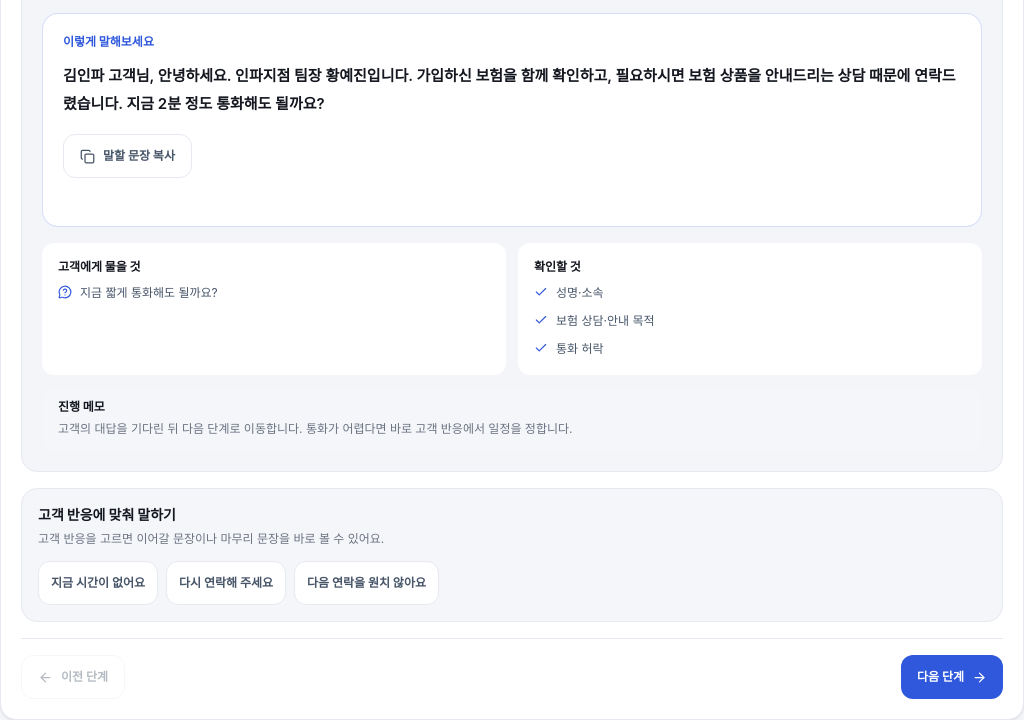
Test: GuidedTalkPlaybooks › selects a scene and keeps exactly one current step
(page scrolled)
Click the button "다음 단계".
click(952, 677)  # box [901, 655, 1003, 699]
(page scrolled)
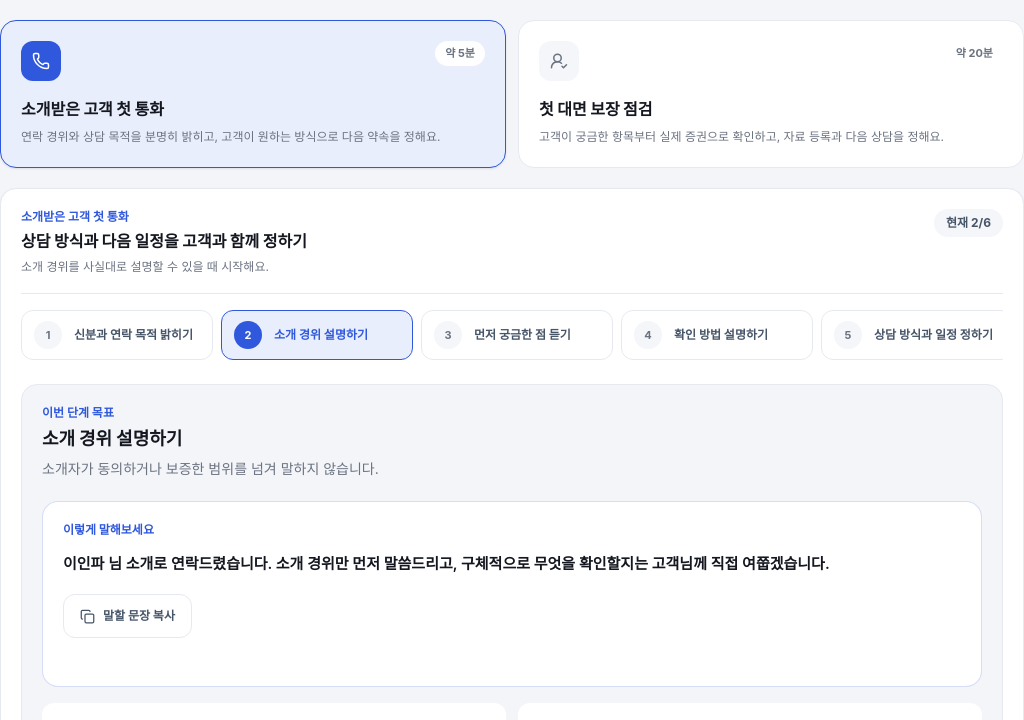
Expected: the text "현재 2/6" is shown, [934, 209, 1003, 237]
Click the button "첫 대면 보장 점검".
click(559, 61)  # box [518, 20, 1023, 168]
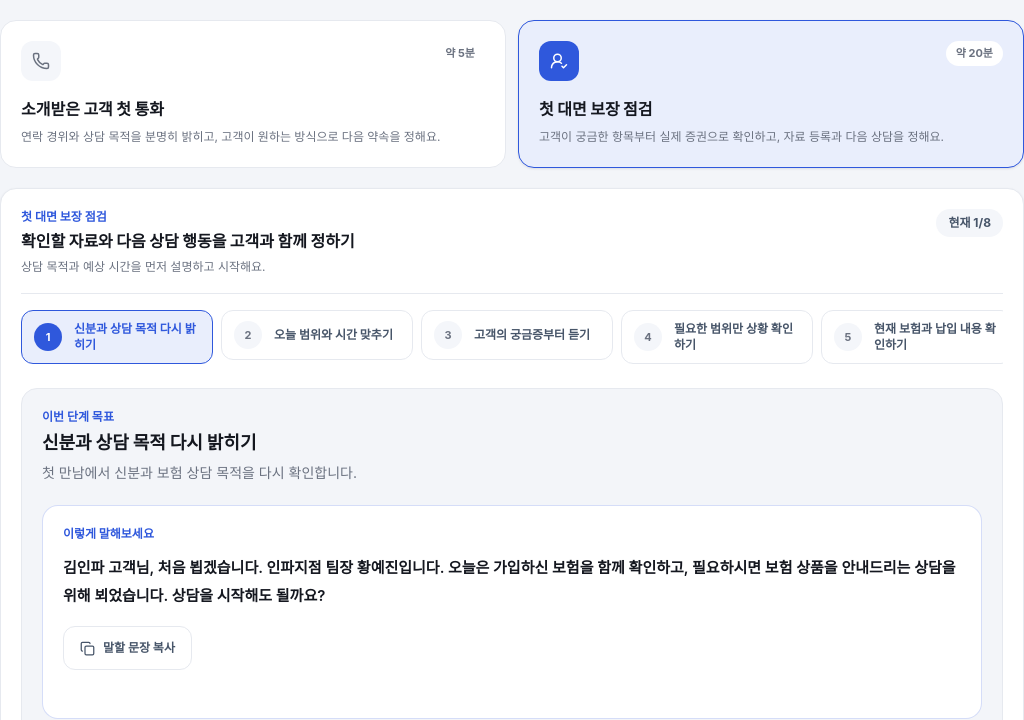
Expected: the text "현재 1/8" is shown, [936, 209, 1003, 237]
